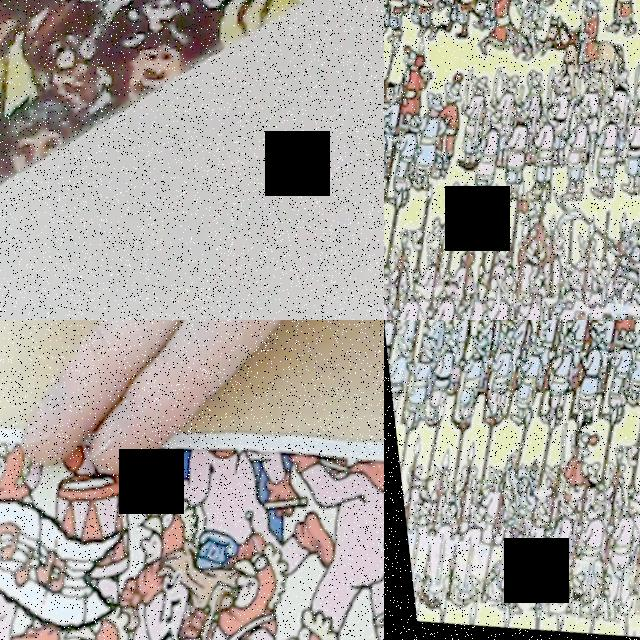waldo: (2, 0, 113, 124), (384, 81, 392, 110), (586, 320, 607, 326)
